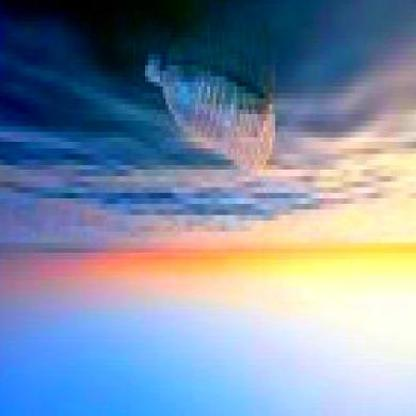plastic bottle: (144, 56, 276, 176)
